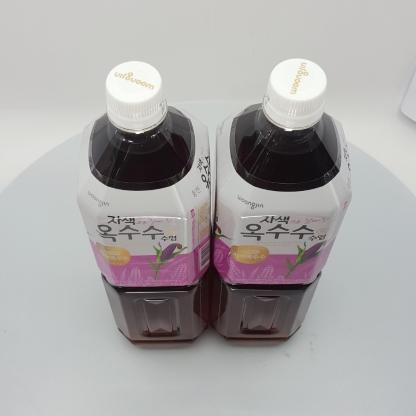----------1-5L: (210, 58, 352, 342), (77, 61, 211, 347)
